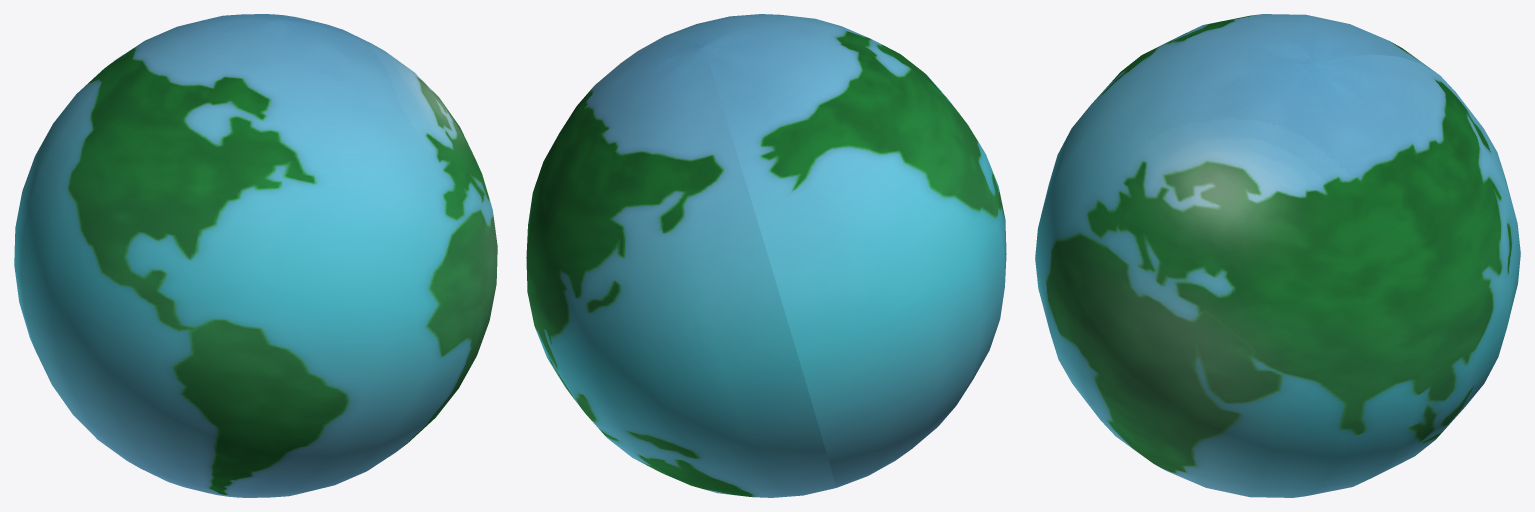
File: EarthOrb.obj
The picture shows the model from 3 angles, left to right: view 1: azimuth 30°, elevation 25°; view 2: azimuth 150°, elevation 25°; view 3: azimuth 270°, elevation 25°; orthographic projection.
Visible parts, largest first — view 1: Handle1; view 2: Handle1; view 3: Handle1.
Boxes of the visible parts, <box> form: Handle1: <box>14,14,497,497</box>; Handle1: <box>526,14,1006,497</box>; Handle1: <box>1035,14,1520,497</box>.
Size of the model in its own units: 1.22 by 1.22 by 1.22.
Materials: 1 (1 with a texture image).
